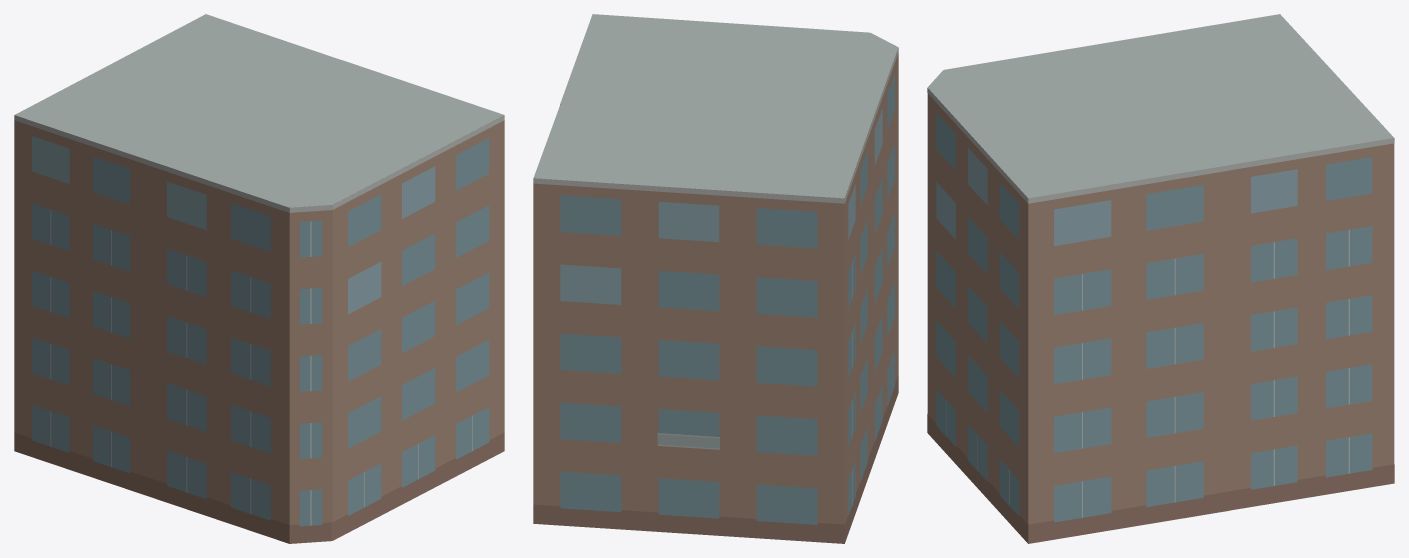
Rendered from survey-upis-32939322.glb.
3 views of the same model, side by side, from view 1: azimuth 30°, elevation 25°; view 2: azimuth 150°, elevation 25°; view 3: azimuth 270°, elevation 25° (orthographic). The views are drawn at different scales.
Parts seen in each view (by area): view 1: survey-upis-32939322.tmp; view 2: survey-upis-32939322.tmp; view 3: survey-upis-32939322.tmp.
Boxes of the visible parts, left/top/right/bottom form: survey-upis-32939322.tmp: left=14, top=14, right=504, bottom=543; survey-upis-32939322.tmp: left=533, top=14, right=898, bottom=543; survey-upis-32939322.tmp: left=927, top=14, right=1394, bottom=543.
Size of the model in its own units: 18.22 by 15.9 by 19.49.
